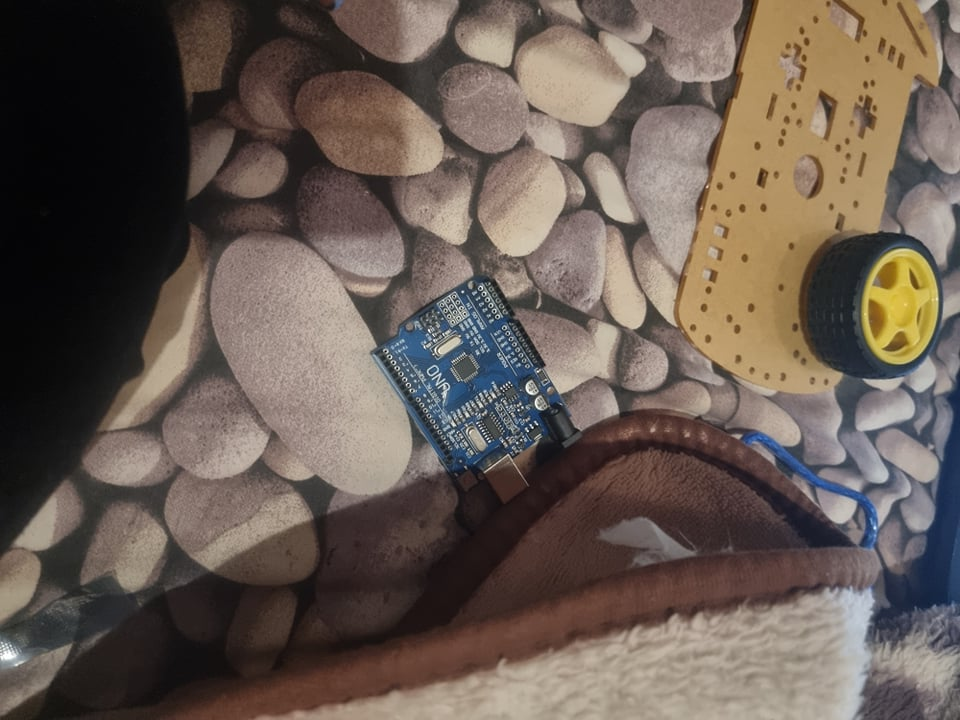UNO R3: (367, 277, 584, 503)
